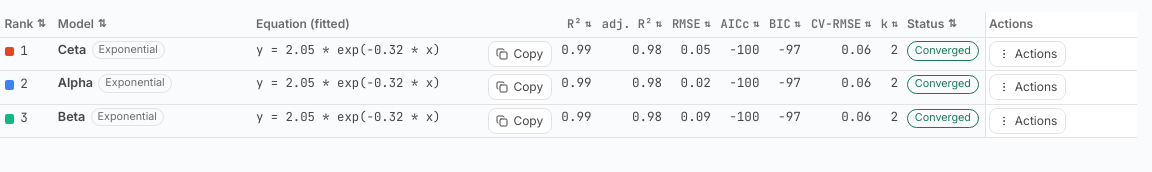
it: RankingTable › column sorting (display only) › reports the active sort to assistive technology
Click the button "RMSE ⇅".
click(691, 24)  # box [671,15,711,33]
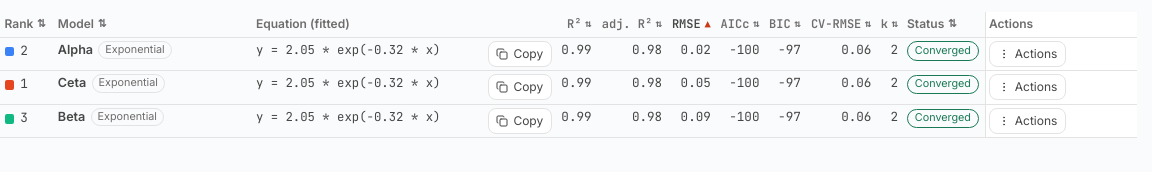
Now the column heading "RMSE" has attribute aria-sort="ascending", box [667,12,715,37]
Click the button "RMSE ▲".
click(691, 24)  # box [671,15,711,33]
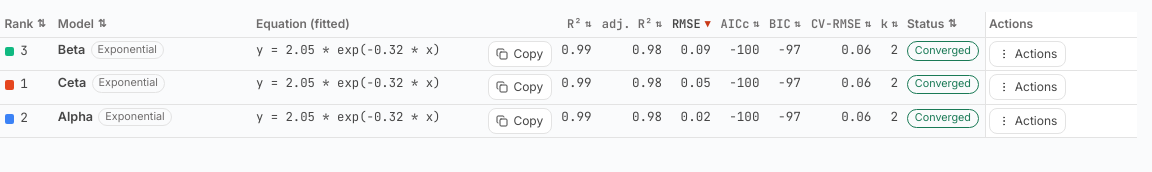
Now the column heading "RMSE" has attribute aria-sort="descending", box [667,12,715,37]
Click the button "RMSE ▼".
click(691, 24)  # box [671,15,711,33]
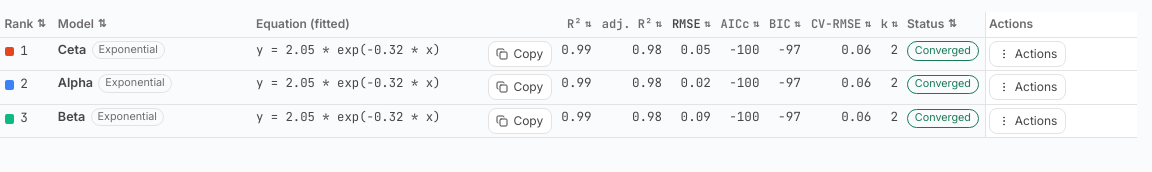
Now the column heading "RMSE" has attribute aria-sort="none", box [667,12,715,37]
